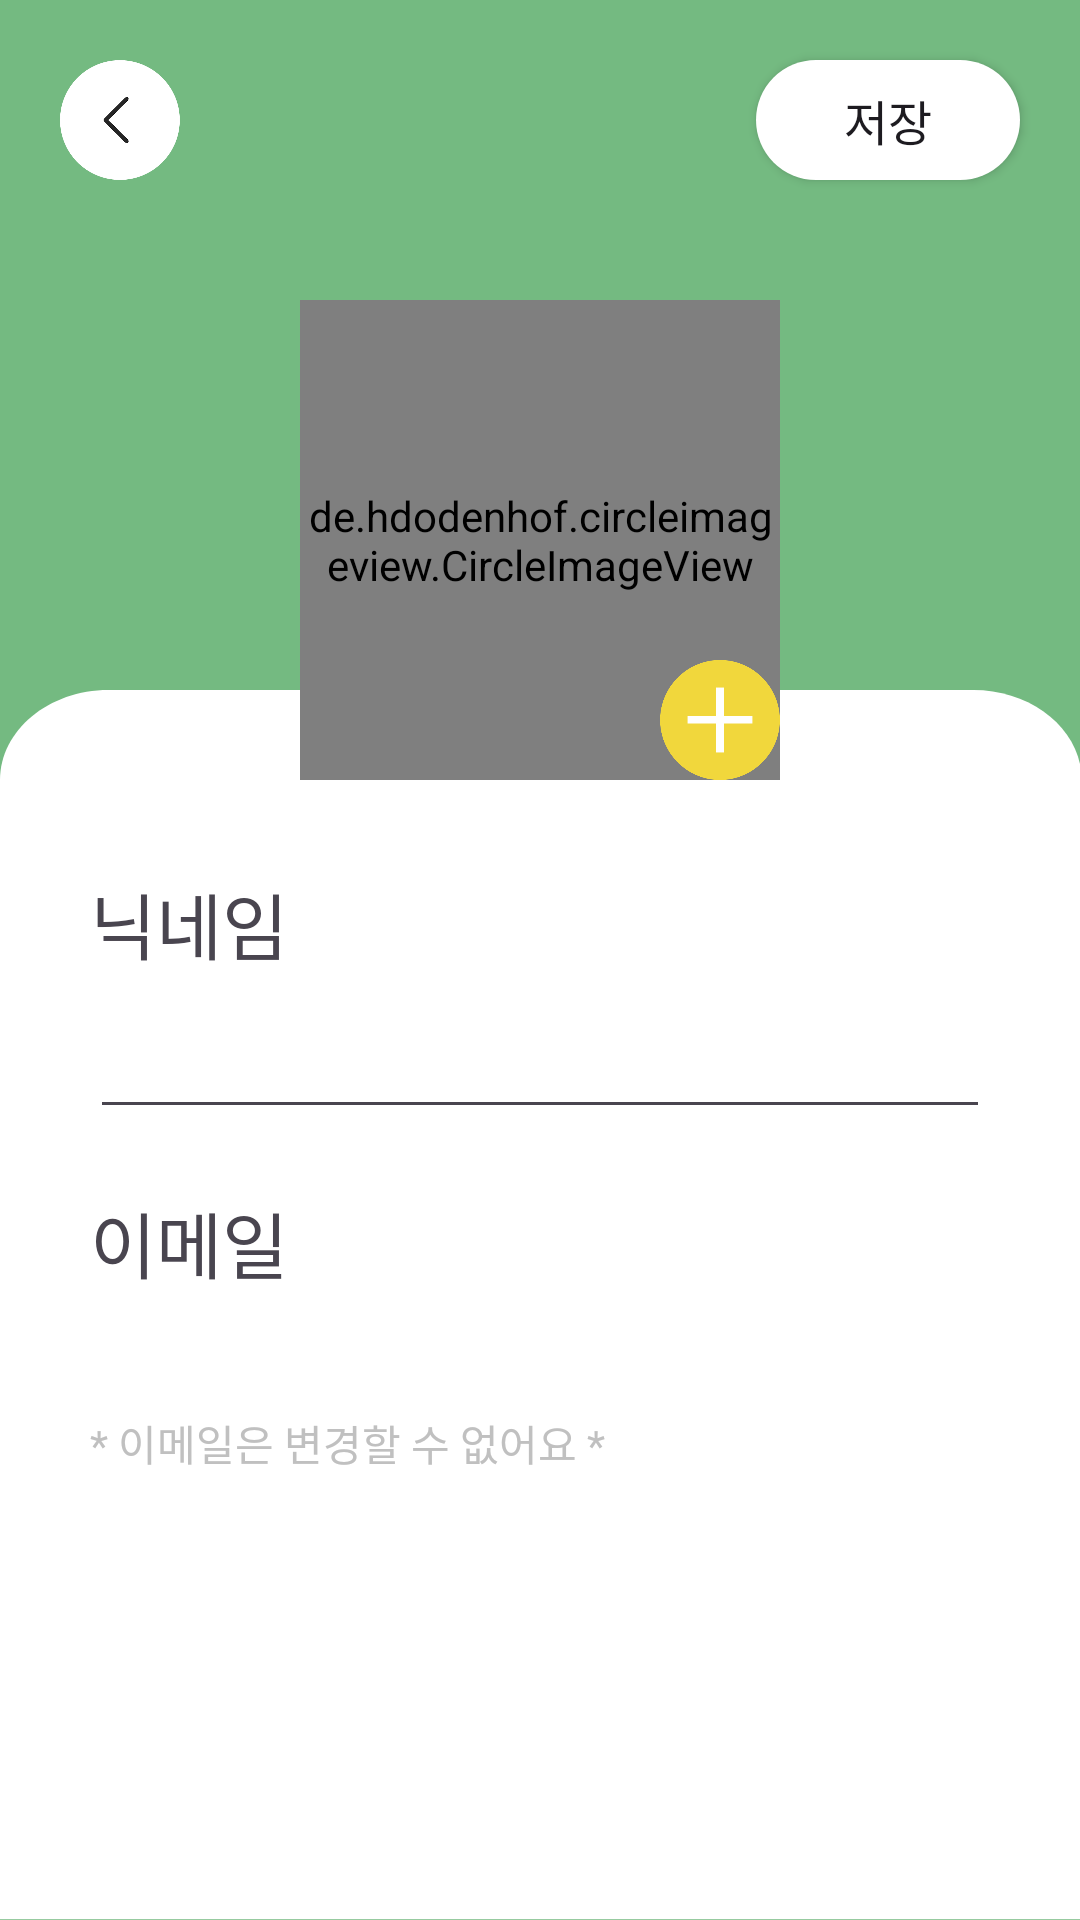

Point at icon controls on the screen. Image size 1080*1920, points as point (x, y).
plus: point (720, 720)
return back: point (120, 120)
